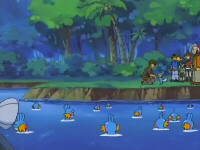mudkip: (100, 113, 121, 139), (13, 112, 28, 135), (153, 111, 169, 130), (60, 103, 76, 120), (181, 113, 196, 129), (169, 107, 180, 123), (158, 70, 167, 85), (133, 106, 144, 118)
